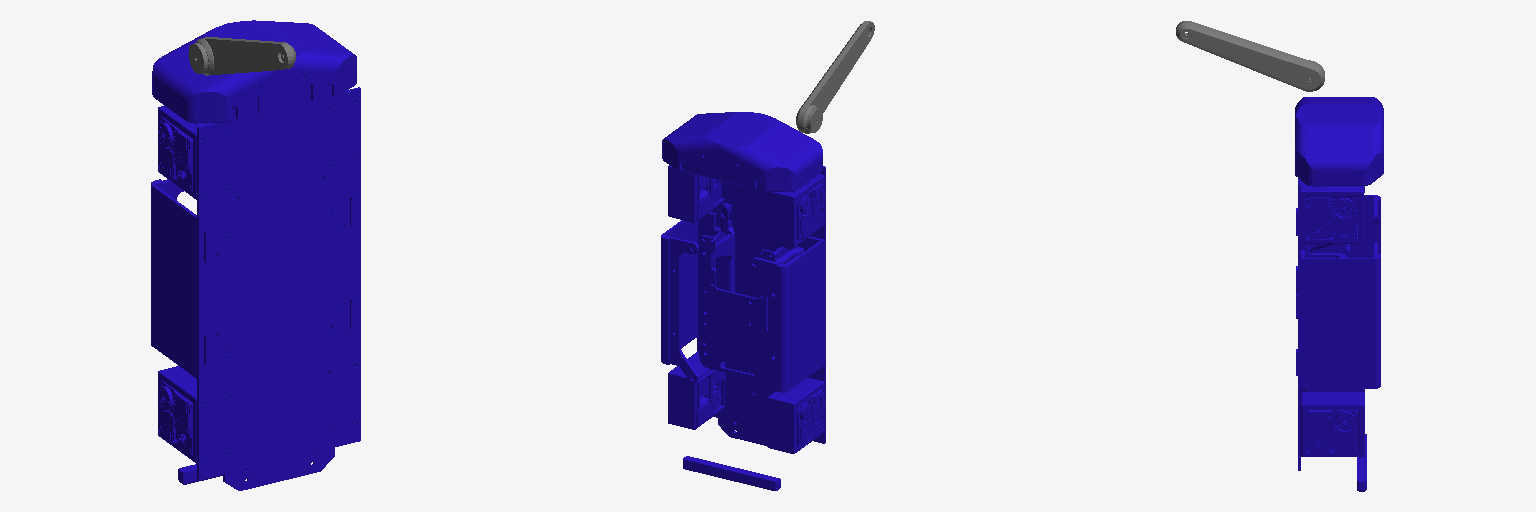
The robot description file, URDF, robot "test_robot":
<?xml version="1.0"?>
<robot name="test_robot">
  <link name="base">
    <visual>
      <geometry>
        <mesh filename="base_without_legs.stl" scale="0.001 0.001 0.001"/>
      </geometry>
      <material name="dark_blue_base">
        <color rgba="0.2 0.1 0.8 1"/>
      </material>
    </visual>
    <inertial>
      <mass value="1.15689"/>
      <origin xyz="-0.074206 -0.0795 0.175784" rpy="0 0 0"/>
      <inertia 
        ixx="0.01124" 
        ixy="0.000000001421" 
        ixz="0.000000003106" 
        iyy="0.0132" 
        iyz="-0.000000002842" 
        izz="0.001957"/>
    </inertial>
    <collision>
      <geometry>
        <mesh filename="base_without_legs.stl" scale="0.001 0.001 0.001"/>
      </geometry>
    </collision>
  </link>
<link name="back_left_upperleg">
  <visual>
    <origin xyz="0 0 0" rpy="0 0 0"/> 
    <geometry>
      <mesh filename="back_left_upperleg.stl" scale="0.001 0.001 0.001"/>
    </geometry>
    <material name="steel_upperleg">
      <color rgba="0.5 0.5 0.5 1"/>
    </material>
  </visual>
  <inertial>
    <mass value="0.310908"/> 
    <origin xyz="0.021509 -0.081911 0.097135" rpy="0 0 0"/>
    <inertia 
        ixx="0.000609" 
        ixy="0.00001346" 
        ixz="-0.000005444" 
        iyy="0.0001013" 
        iyz="0.0002009" 
        izz="0.0005167"/>
  </inertial>
  <collision>
    <origin xyz="0.021509 -0.081911 0.097135" rpy="0 0 0"/> 
    <geometry> 
      <mesh filename="back_left_upperleg.stl" scale="0.001 0.001 0.001"/>
    </geometry>
  </collision>
</link>

 <joint name="joint1" type="revolute">
  <parent link="base"/>
  <child link="back_left_upperleg"/>
  <origin xyz="-0.153792 -0.034703 0.302" rpy="0 0 0"/>
  <axis xyz="1 0 0"/> 
  <limit effort="10" velocity="100.0" lower="-1.57" upper="1.57"/>
</joint>
</robot>

--- Facts derived from the render (not from the file) ---
3 views of the same robot in one strip: view 1: azimuth 30°, elevation 25°; view 2: azimuth 150°, elevation 25°; view 3: azimuth 270°, elevation 25° (orthographic).
Robot: test_robot — 2 links, 1 joints (1 revolute); root link base; default pose: all joints at 0.
Links seen in each view (by area): view 1: base, back_left_upperleg; view 2: base, back_left_upperleg; view 3: base, back_left_upperleg.
Boxes of the visible links, <box> form: base: <box>151,20,360,490</box>; back_left_upperleg: <box>188,37,295,75</box>; base: <box>661,112,825,490</box>; back_left_upperleg: <box>796,21,874,133</box>; base: <box>1295,97,1383,491</box>; back_left_upperleg: <box>1176,21,1324,91</box>.
Size in the robot's own frame: 0.1577 by 0.2035 by 0.4538 metres.
Meshes: 2 distinct files referenced, 2 mesh visuals loaded (2 binary STL).